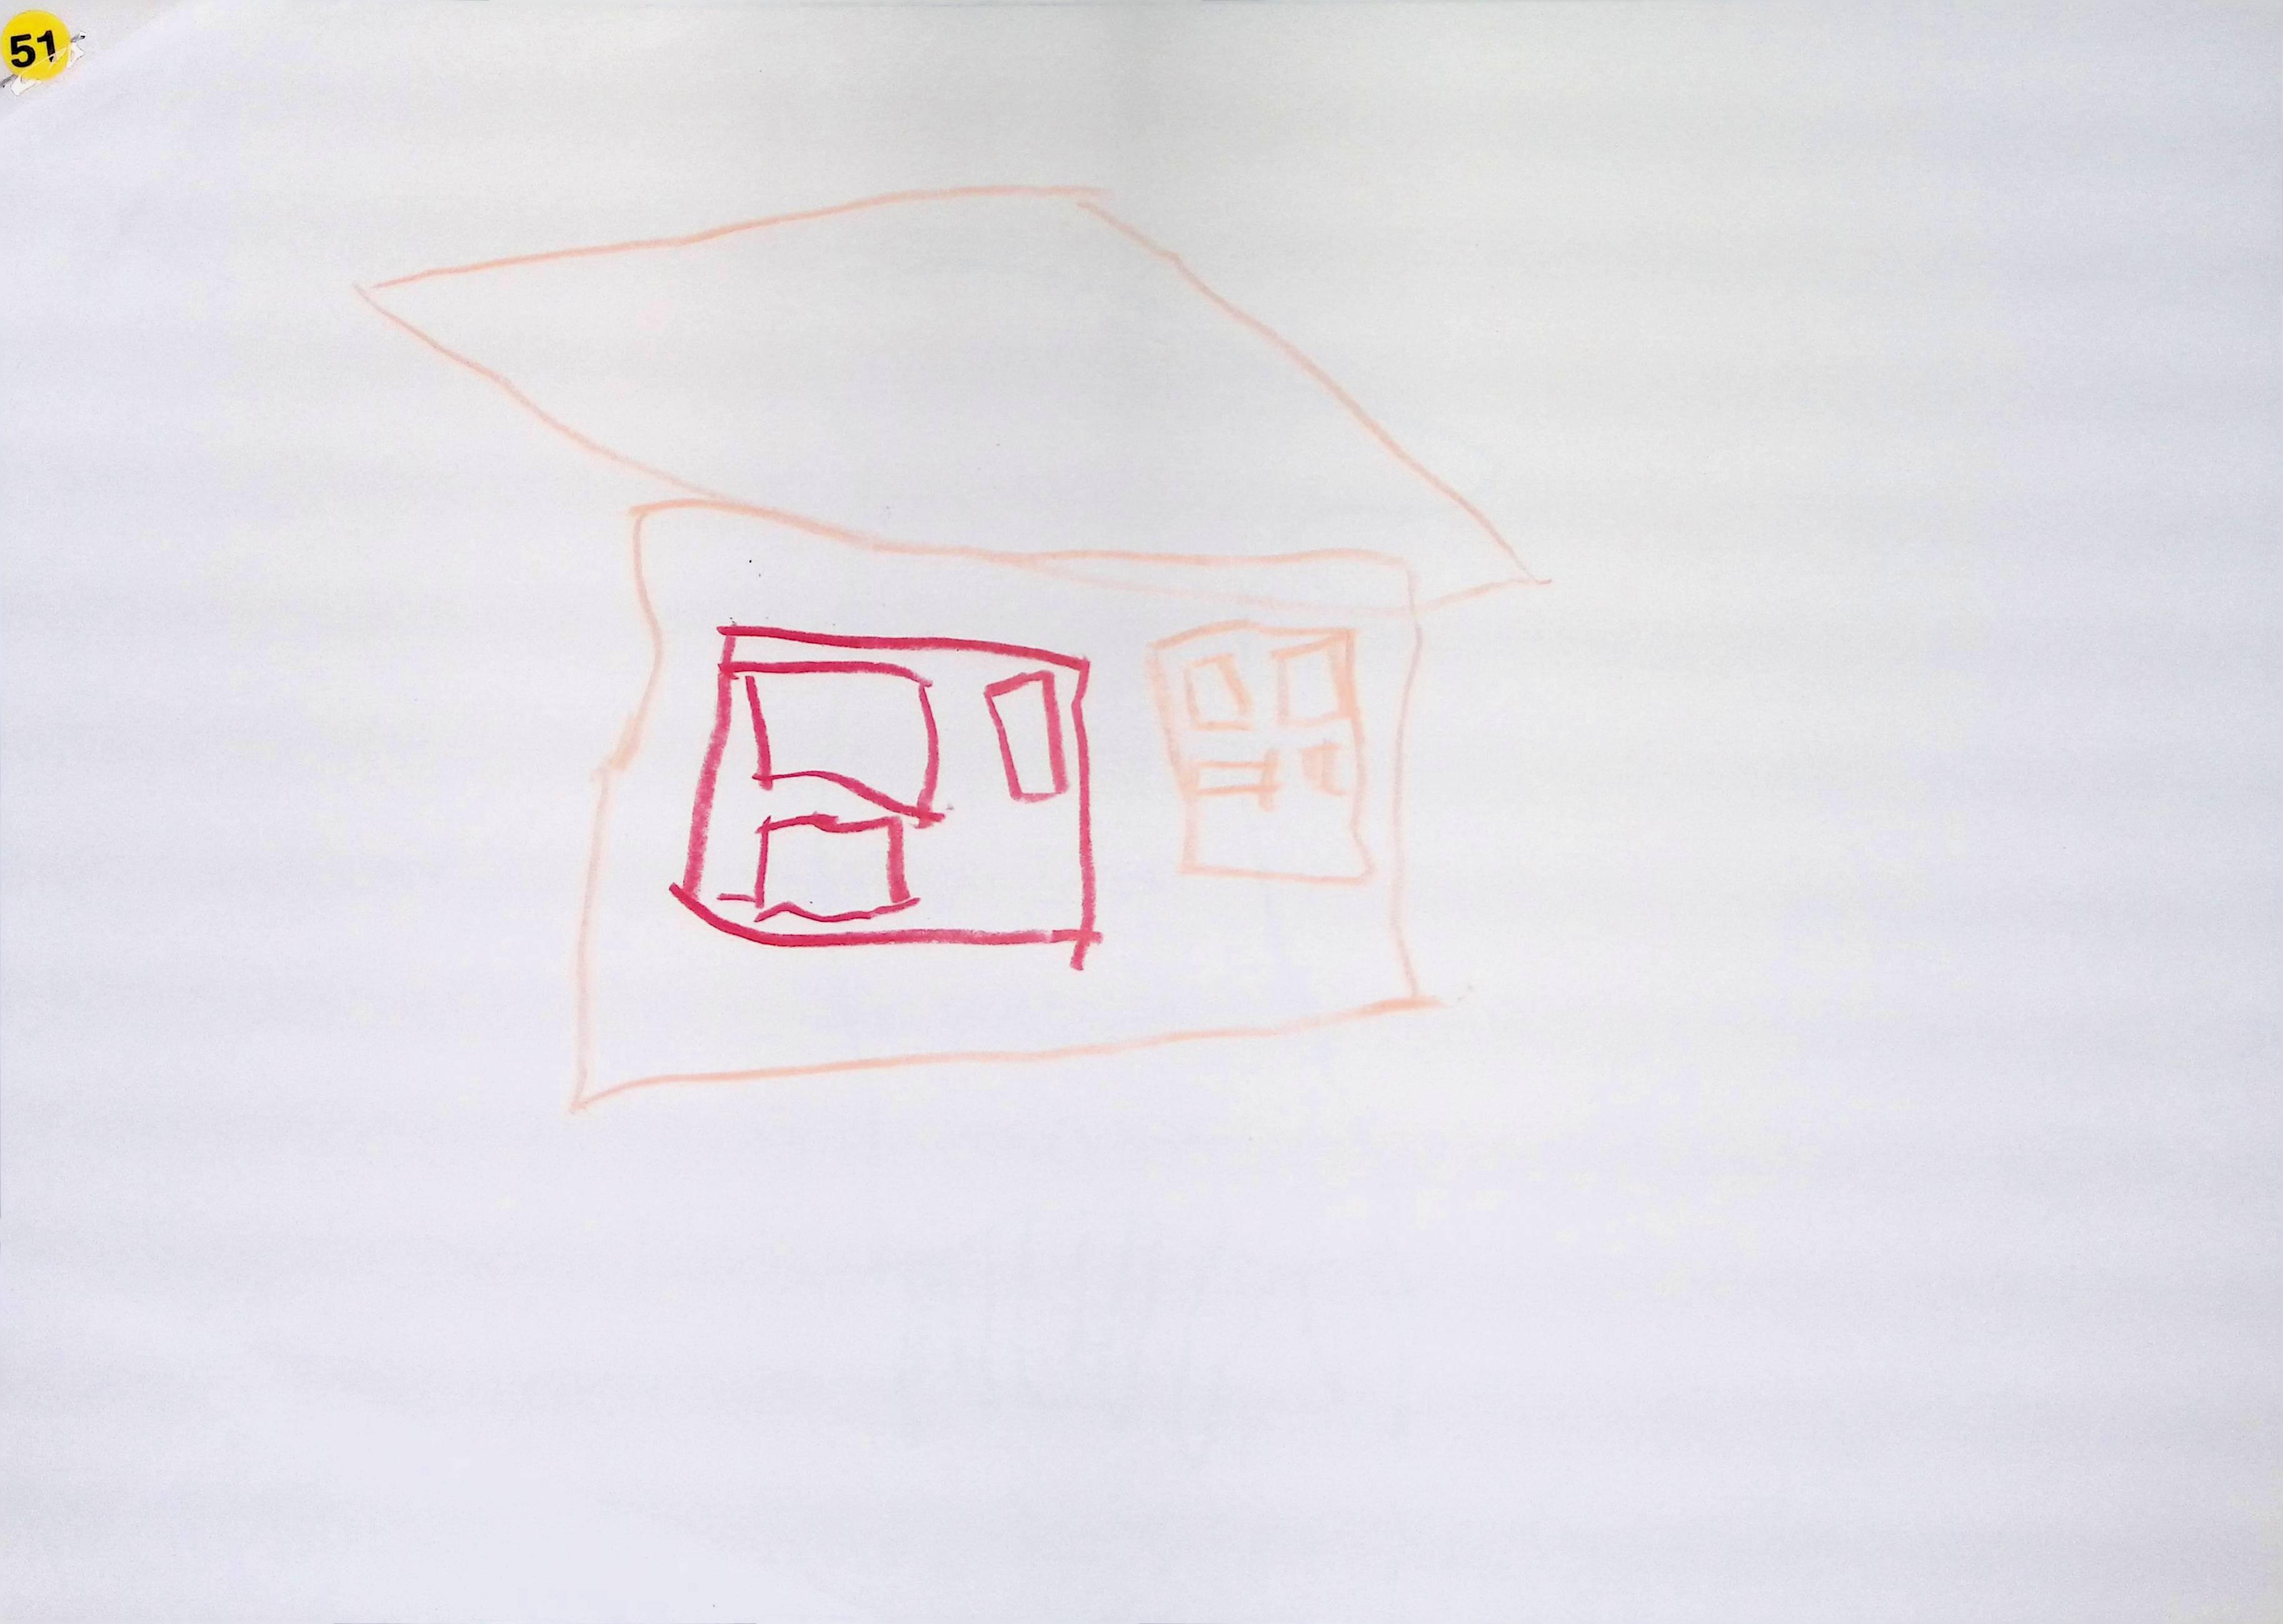house: (364, 185, 1533, 1106)
roof: (359, 185, 1533, 605)
wall: (573, 499, 1424, 1104)
window: (671, 622, 1097, 967), (1151, 620, 1373, 881)
